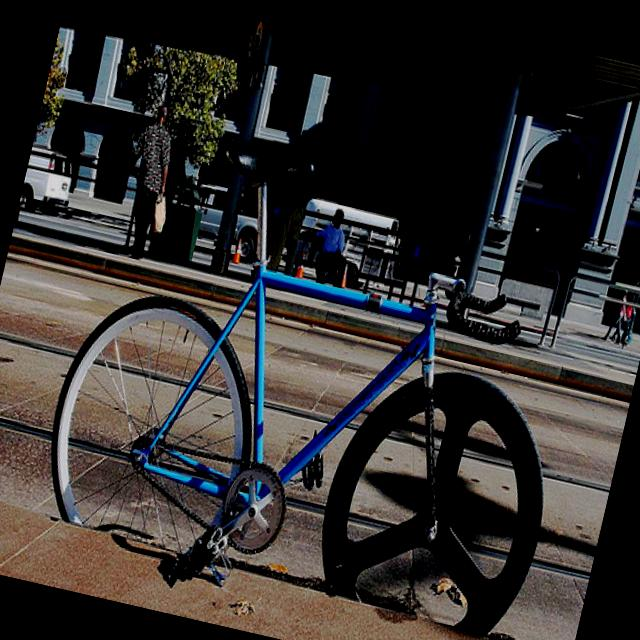Vehicle: (184, 181, 269, 265), (18, 145, 78, 219)
